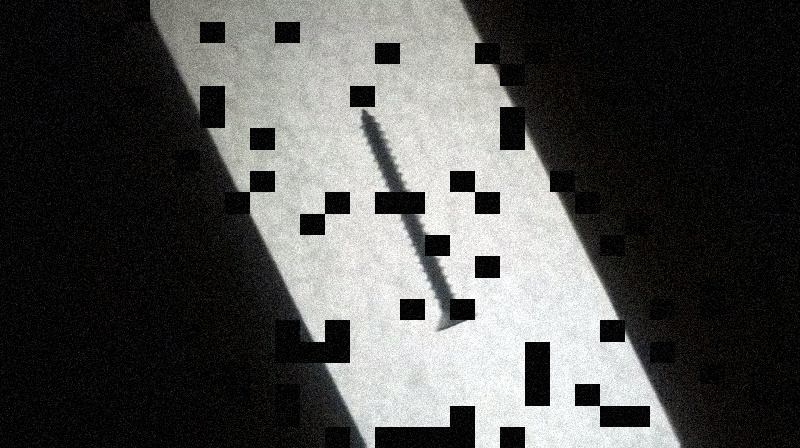S002: (357, 106, 482, 335)
